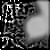node: (23, 1, 50, 43)
